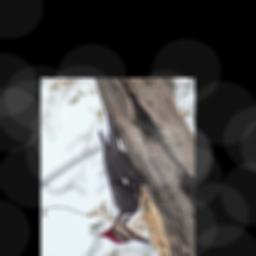Woodpecker: (97, 112, 153, 244)
